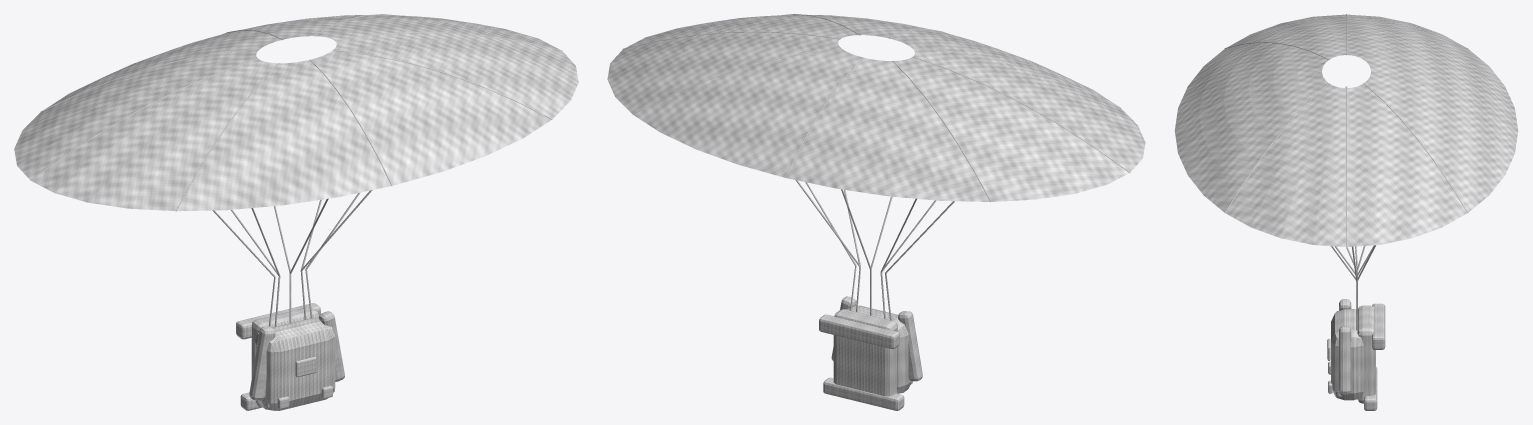
File: parachute_variant_b.glb
The picture shows the model from 3 angles, left to right: view 1: azimuth 30°, elevation 25°; view 2: azimuth 150°, elevation 25°; view 3: azimuth 270°, elevation 25°; orthographic projection. The views are drawn at different scales.
Parts seen in each view (by area): view 1: DEPLOYED_CANOPY_elliptic, Rounded pack shell, Shoulder strap.002, Dorsal mounting plate.001, Shoulder strap.003, Upper harness yoke.001; view 2: DEPLOYED_CANOPY_elliptic, Dorsal mounting plate.001, Upper harness yoke.001, Rounded pack shell, Waist belt.001, Shoulder strap.002; view 3: DEPLOYED_CANOPY_elliptic, Rounded pack shell, Dorsal mounting plate.001, Shoulder strap.003, Upper harness yoke.001.
Boxes of the visible parts, x1,y1,x2,y2 form: DEPLOYED_CANOPY_elliptic: [14, 14, 578, 211]; Rounded pack shell: [254, 317, 335, 410]; Shoulder strap.002: [249, 326, 275, 400]; Dorsal mounting plate.001: [251, 307, 318, 406]; Shoulder strap.003: [319, 311, 344, 381]; Upper harness yoke.001: [236, 303, 320, 339]; DEPLOYED_CANOPY_elliptic: [607, 14, 1145, 201]; Dorsal mounting plate.001: [833, 309, 897, 396]; Upper harness yoke.001: [819, 314, 899, 348]; Rounded pack shell: [846, 305, 911, 393]; Waist belt.001: [823, 377, 904, 410]; Shoulder strap.002: [898, 311, 922, 381]; DEPLOYED_CANOPY_elliptic: [1174, 14, 1518, 247]; Rounded pack shell: [1331, 309, 1363, 400]; Dorsal mounting plate.001: [1357, 305, 1375, 403]; Shoulder strap.003: [1339, 326, 1351, 394]; Upper harness yoke.001: [1372, 303, 1385, 349].
Size of what is drawn, in the model's own units: 4.13 by 2.67 by 2.58.
8 materials, 8 textured.
